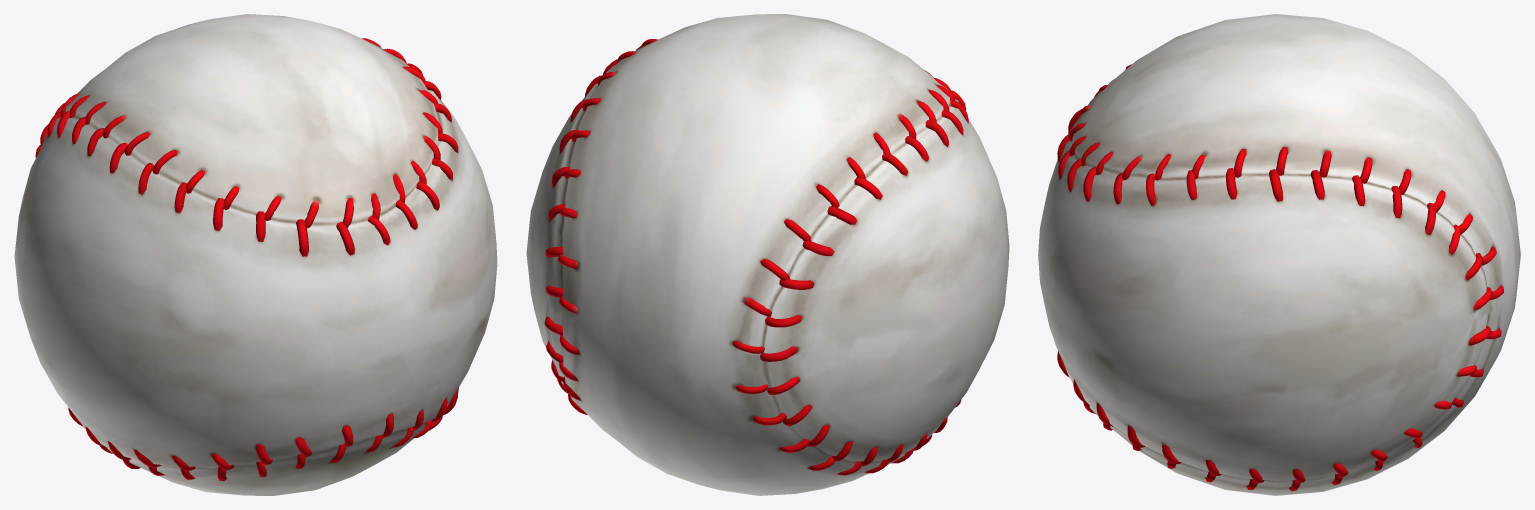
Rendered from baseball.fbx.
The picture shows the model from 3 angles, left to right: view 1: azimuth 30°, elevation 25°; view 2: azimuth 150°, elevation 25°; view 3: azimuth 270°, elevation 25°; orthographic projection.
Parts seen in each view (by area): view 1: node_id30; view 2: node_id30; view 3: node_id30.
Boxes of the visible parts, x1,y1,x2,y2 form: node_id30: (14, 14, 497, 495); node_id30: (526, 14, 1009, 495); node_id30: (1038, 14, 1520, 495).
Bounding box in the file's own units: 0.512 × 0.512 × 0.5121.
Materials: 1 (1 with a texture image).
